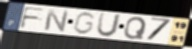7: (146, 16, 173, 43)
F: (18, 6, 47, 29)
G: (72, 12, 97, 36)
N: (43, 8, 70, 33)
Q: (123, 16, 149, 40)
U: (95, 12, 123, 39)
